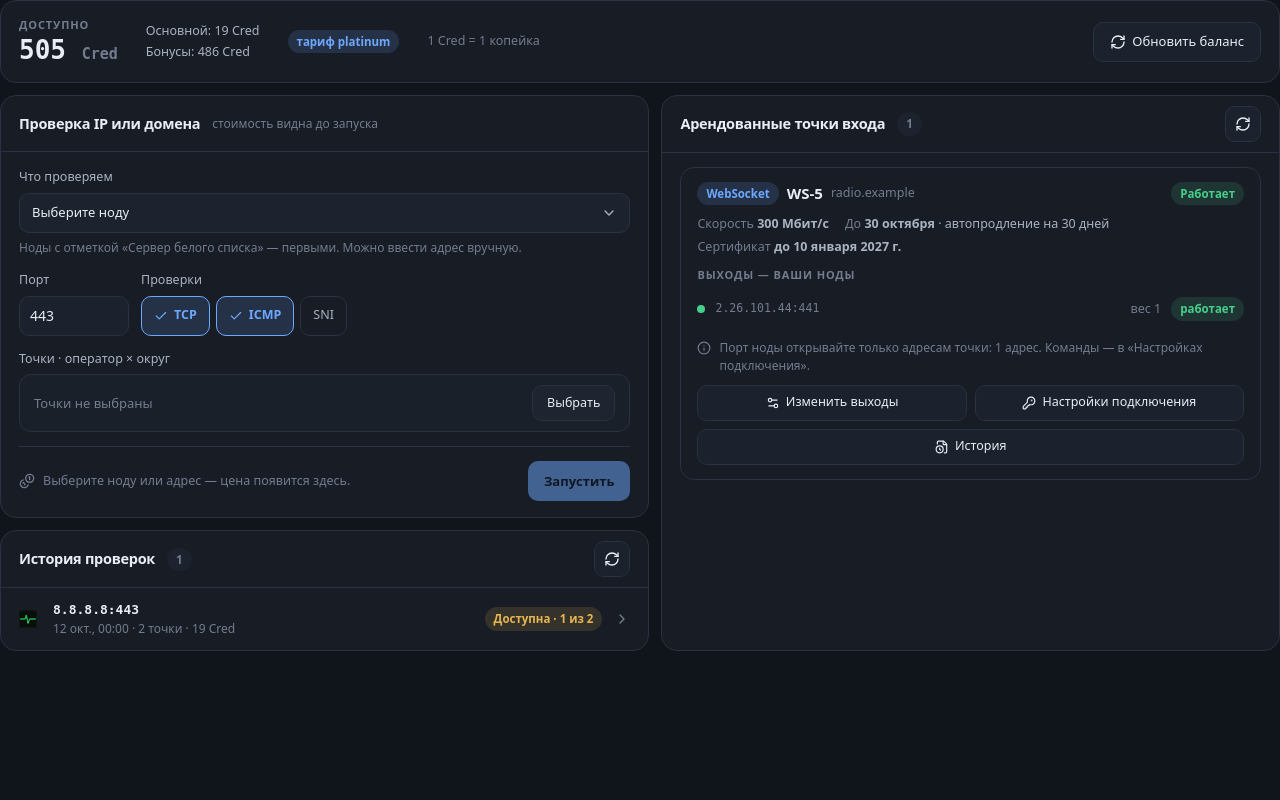
Test: BS Checker (вариант A) › точка WebSocket: скорость, срок, выход на ноду, адреса моста; настройки подключения — секреты
Check: the element named "Точка WS-5" shows "Скорость 300 Мбит/с", box [680,167,1261,480]
Check: the element named "Точка WS-5" shows "автопродление на 30 дней", box [935,215,1109,232]
Click the button "Настройки подключения" at (1109, 402), box [975,384,1244,420]
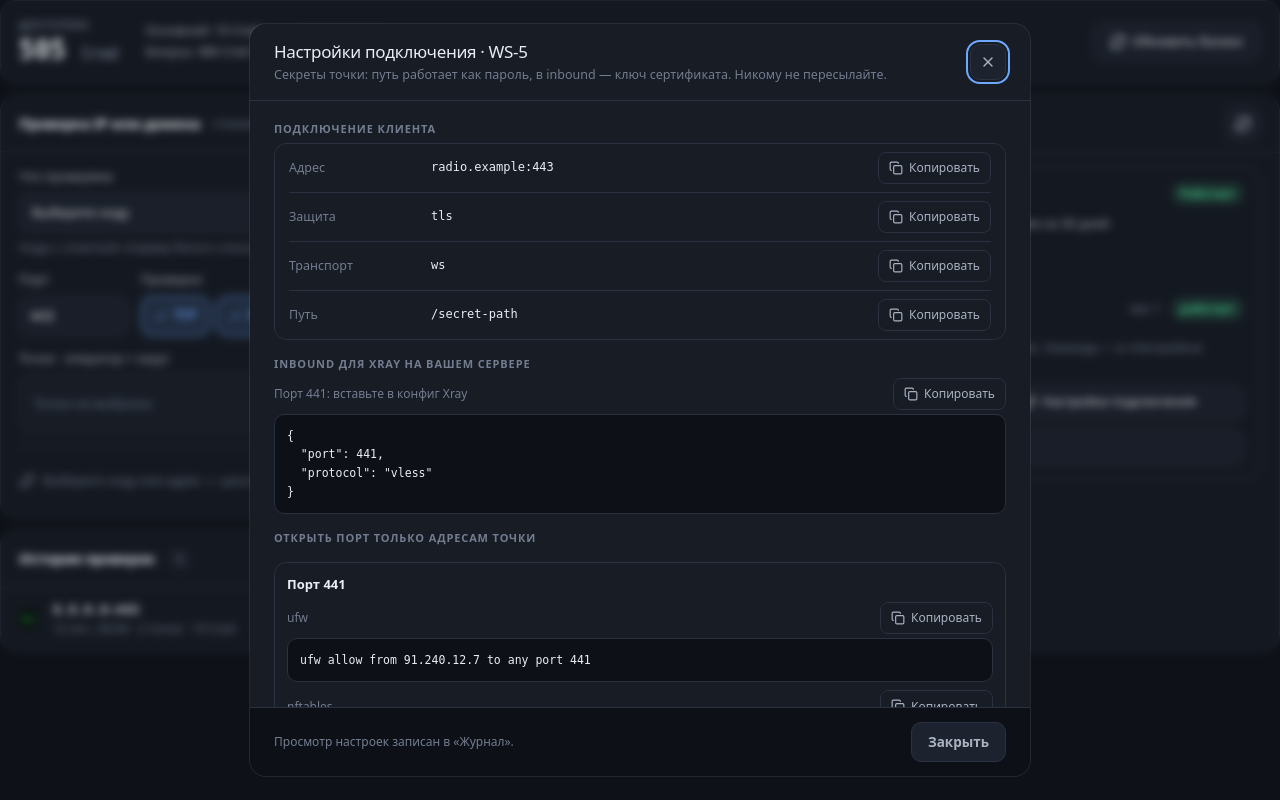
Check: the text "/secret-path" is shown, box [431,307,518,321]
Check: the dialog "Настройки подключения · WS-5" shows "ufw allow from 91.240.12.7 to any port 441", box [300,652,591,666]
Check: the dialog "Настройки подключения · WS-5" shows "Просмотр настроек записан в «Журнал».", box [274,733,514,750]
